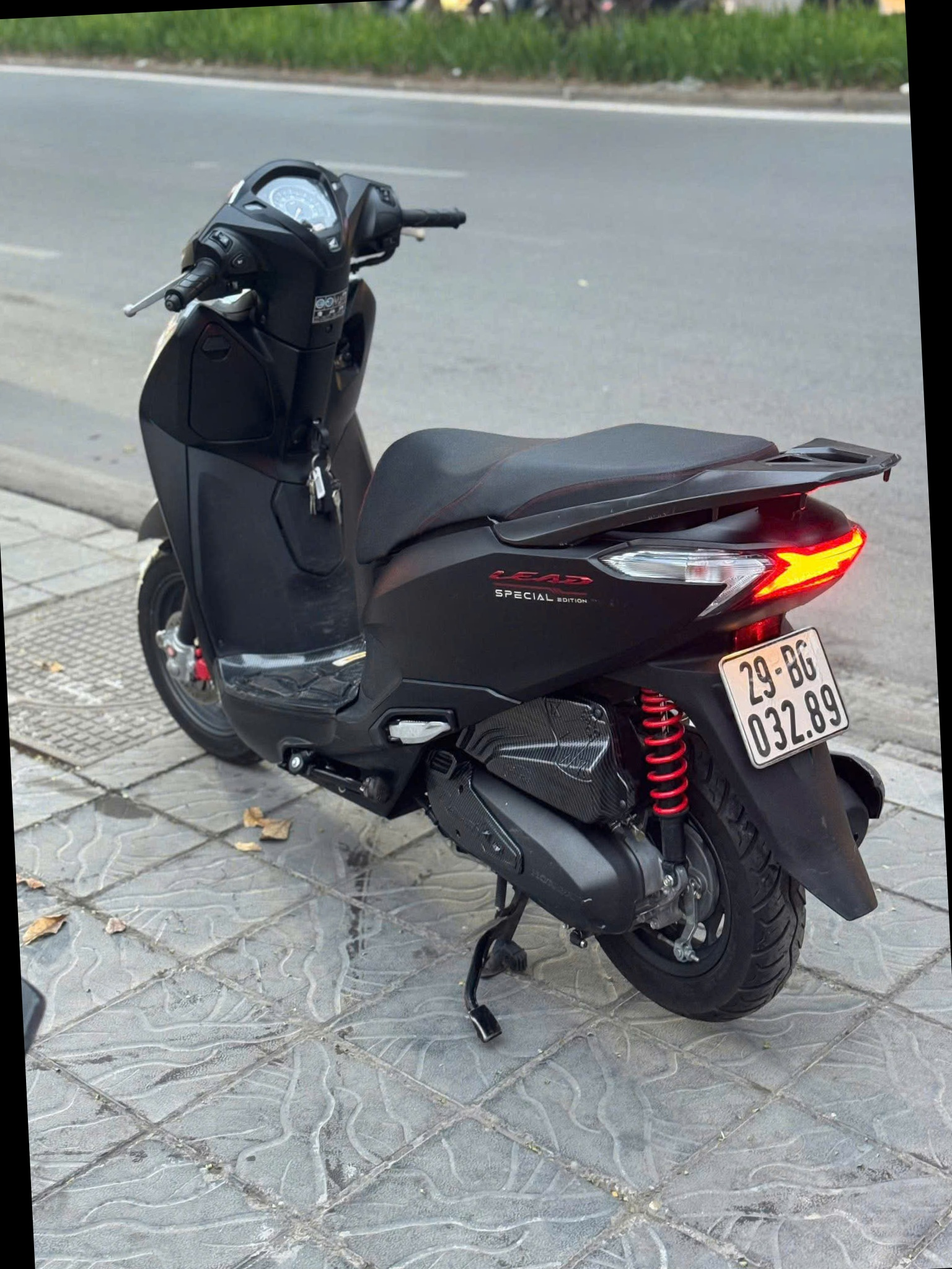Bien-so: (723, 593, 868, 740)
